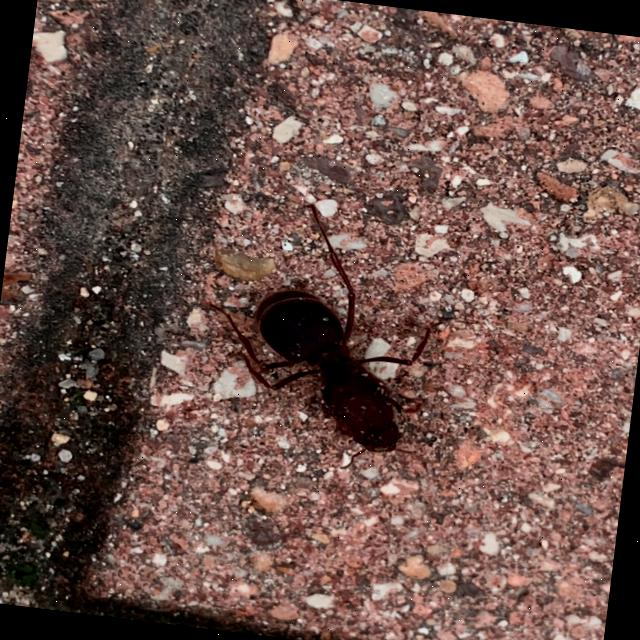Alive-Female-Dealate: (193, 193, 458, 480)
